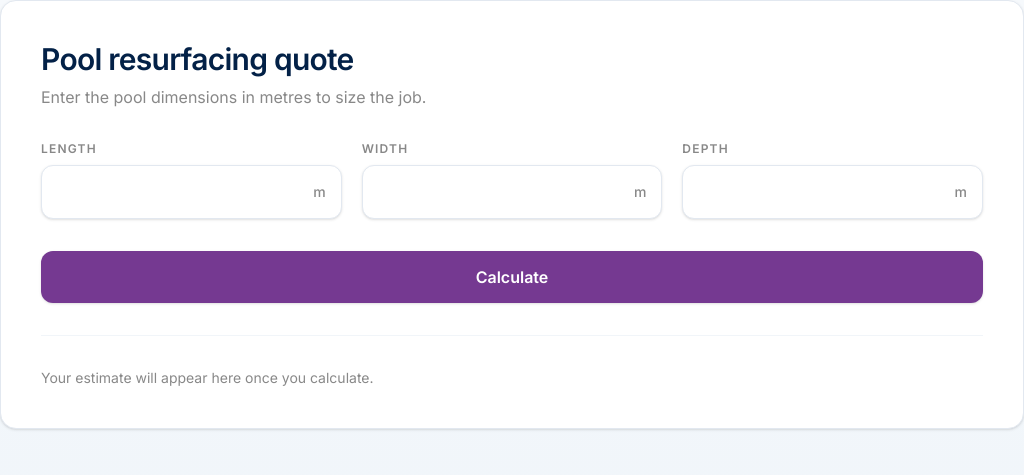
Test: Calculator › rejects a negative dimension
The image size is (1024, 475).
Step 1. Type "10" into the number field labelled "Length" → x=191, y=192, box [41,165,342,219]
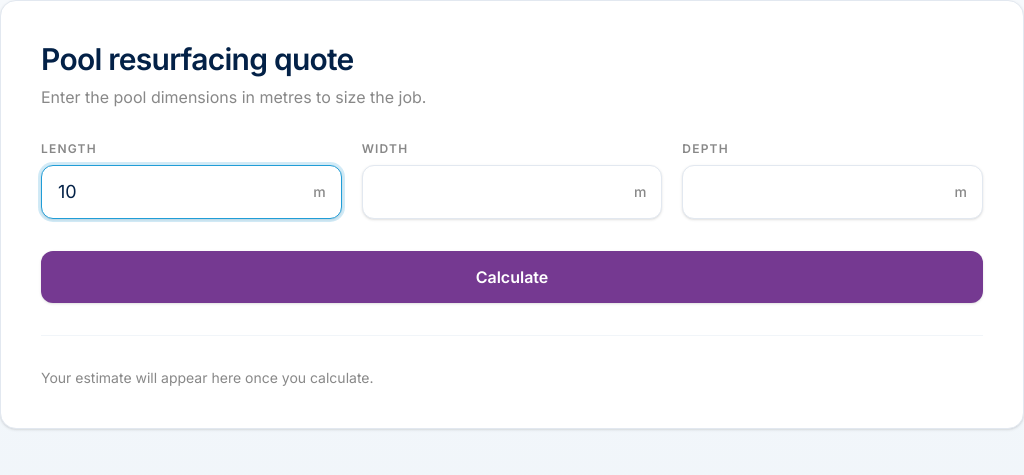
Step 2. Type "-5" into the number field labelled "Width" → x=512, y=192, box [362,165,662,219]
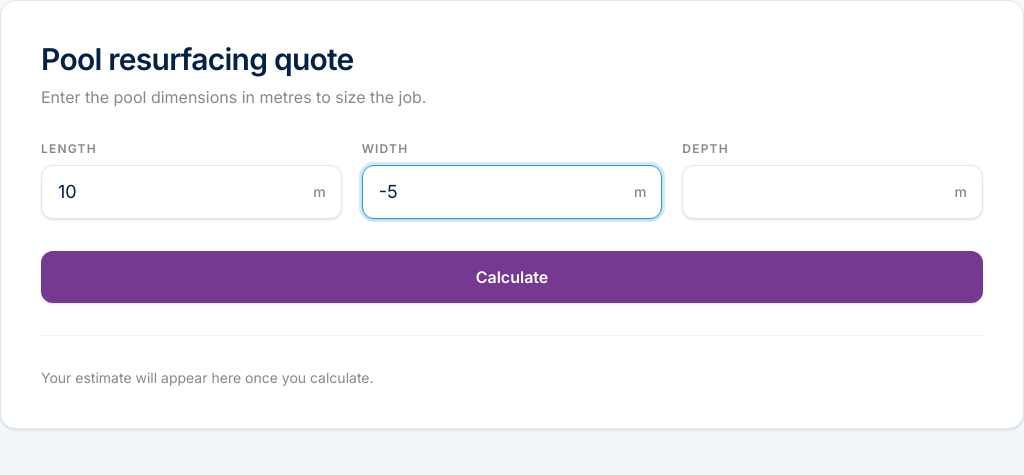
Step 3. Type "2" into the number field labelled "Depth" → x=833, y=192, box [682,165,983,219]
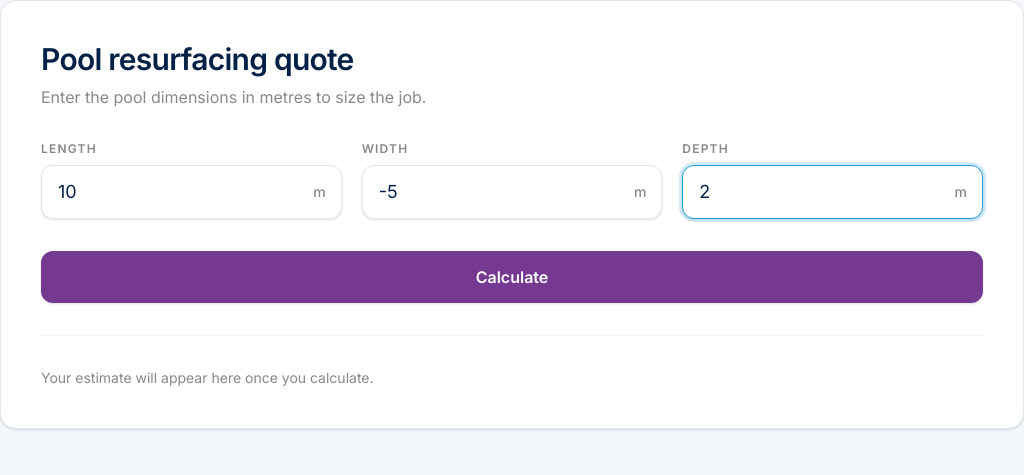
Step 4. Click the button "Calculate" → x=512, y=277, box [41,251,983,303]
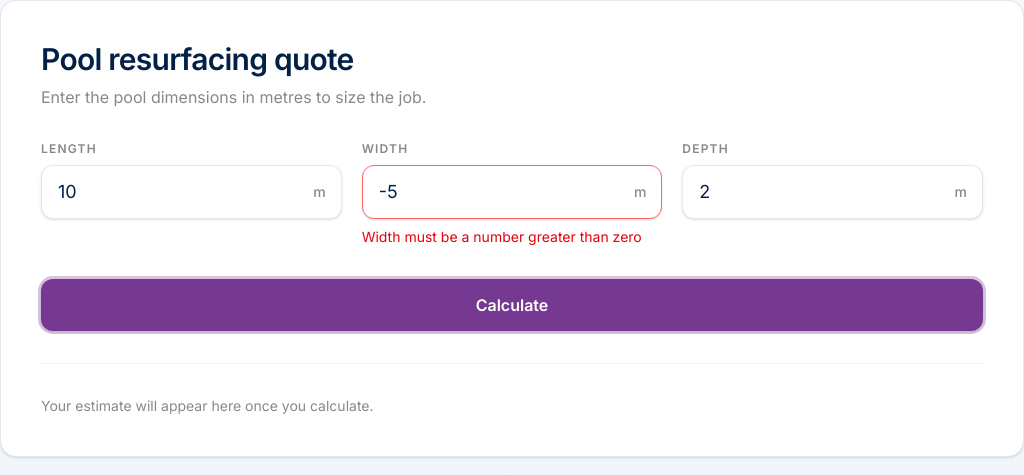
expect the text "Width must be a number greater than zero" is shown: met, box [362,227,662,247]
